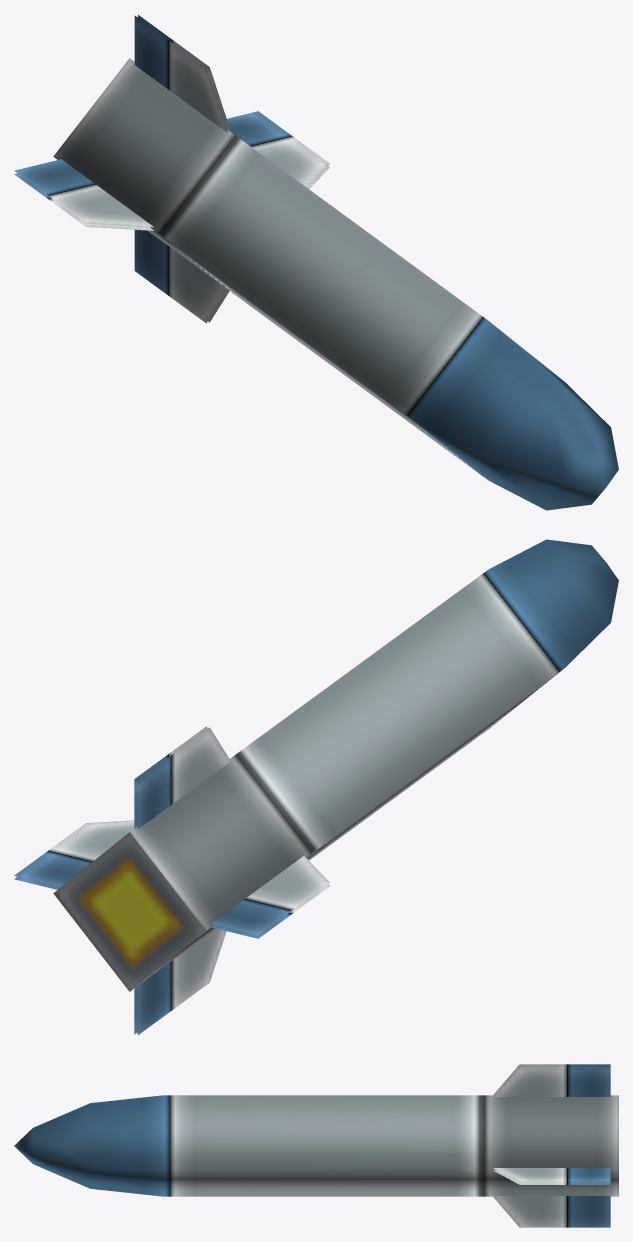
File: Allies_Missile.FBX
The picture shows the model from 3 angles, top to bottom: view 1: azimuth 30°, elevation 25°; view 2: azimuth 150°, elevation 25°; view 3: azimuth 270°, elevation 25°; orthographic projection. The views are drawn at different scales.
Visible parts, largest first — view 1: Allies_Missile; view 2: Allies_Missile; view 3: Allies_Missile.
Boxes of the visible parts, <box> form: Allies_Missile: <box>14,15,618,510</box>; Allies_Missile: <box>14,539,618,1035</box>; Allies_Missile: <box>14,1064,618,1227</box>.
Bounding box in the file's own units: 116 × 116 × 394.
1 material, 1 textured.
